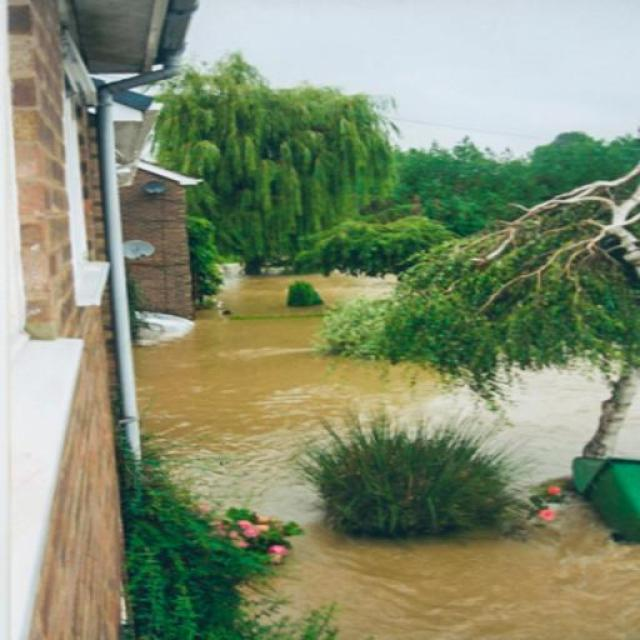puddle: (210, 268, 343, 539), (294, 537, 640, 640), (134, 354, 340, 479), (484, 377, 605, 563)
